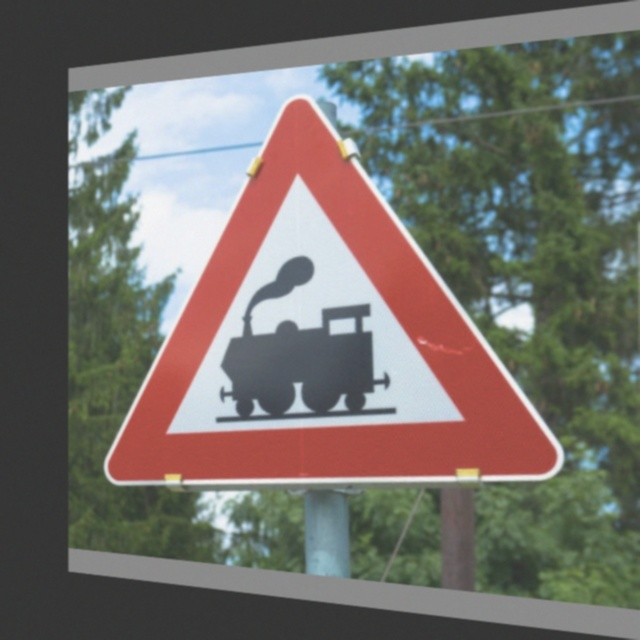Unguarded_Level_Crossing: (117, 74, 551, 505)
